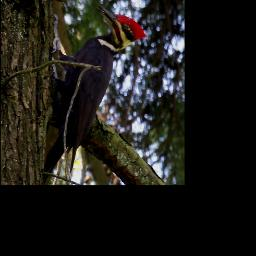Woodpecker: (40, 5, 148, 185)
